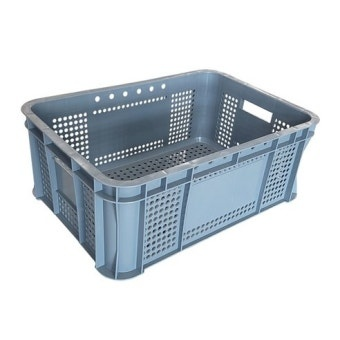plastic: (21, 68, 318, 277)
